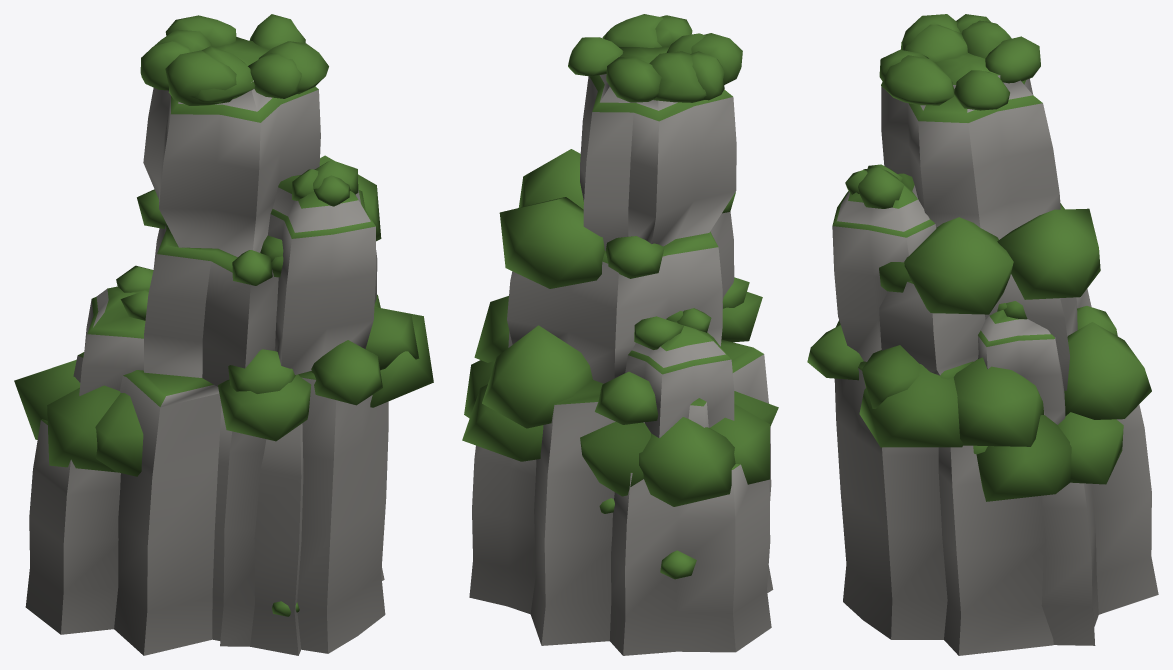
Rendered from two_heights_head_s.glb.
3 renders of one model, left to right at view 1: azimuth 30°, elevation 25°; view 2: azimuth 150°, elevation 25°; view 3: azimuth 270°, elevation 25°, orthographic. The views are drawn at different scales.
Visible parts, largest first — view 1: two_heights_head_s; view 2: two_heights_head_s; view 3: two_heights_head_s.
Part boxes in pixels (left/top/right/bottom): two_heights_head_s: left=14, top=14, right=433, bottom=655; two_heights_head_s: left=462, top=14, right=778, bottom=655; two_heights_head_s: left=807, top=14, right=1158, bottom=655.
Size of the model in its own units: 50.13 by 86.4 by 50.27.
